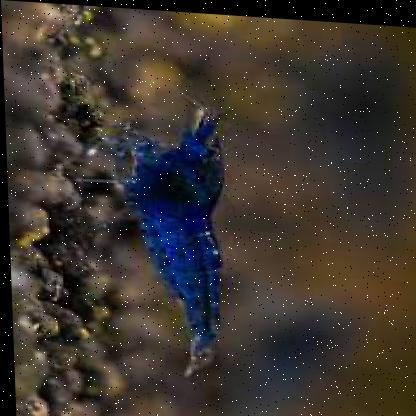shrimp: (83, 93, 237, 374)
